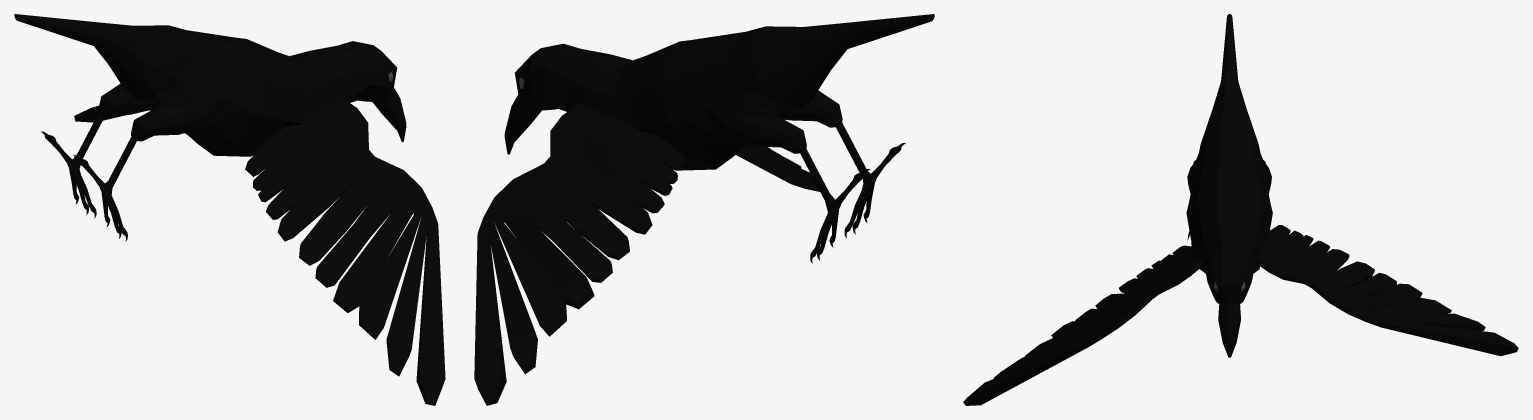
File: crow_down_000008.obj
3 views of the same model, side by side, from view 1: azimuth 30°, elevation 25°; view 2: azimuth 150°, elevation 25°; view 3: azimuth 270°, elevation 25° (orthographic). The views are drawn at different scales.
Parts seen in each view (by area): view 1: Cylinder; view 2: Cylinder; view 3: Cylinder.
Boxes of the visible parts, left/top/right/bottom form: Cylinder: left=14, top=14, right=445, bottom=405; Cylinder: left=474, top=14, right=934, bottom=405; Cylinder: left=963, top=14, right=1518, bottom=405.
Size of the model in its own units: 1.43 by 1.19 by 2.11.
